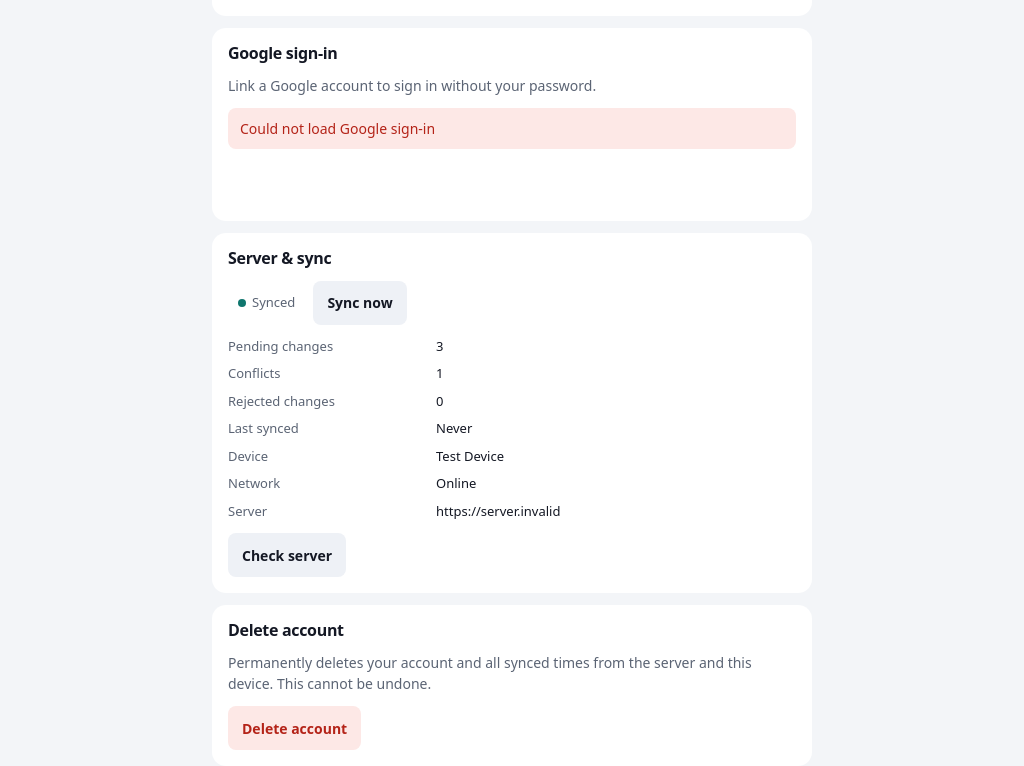
Test case: AccountPage › surfaces delete failures inside the dialog
(page scrolled)
Click the button "Delete account". click: x=295, y=728
box: [228,706,361,750]
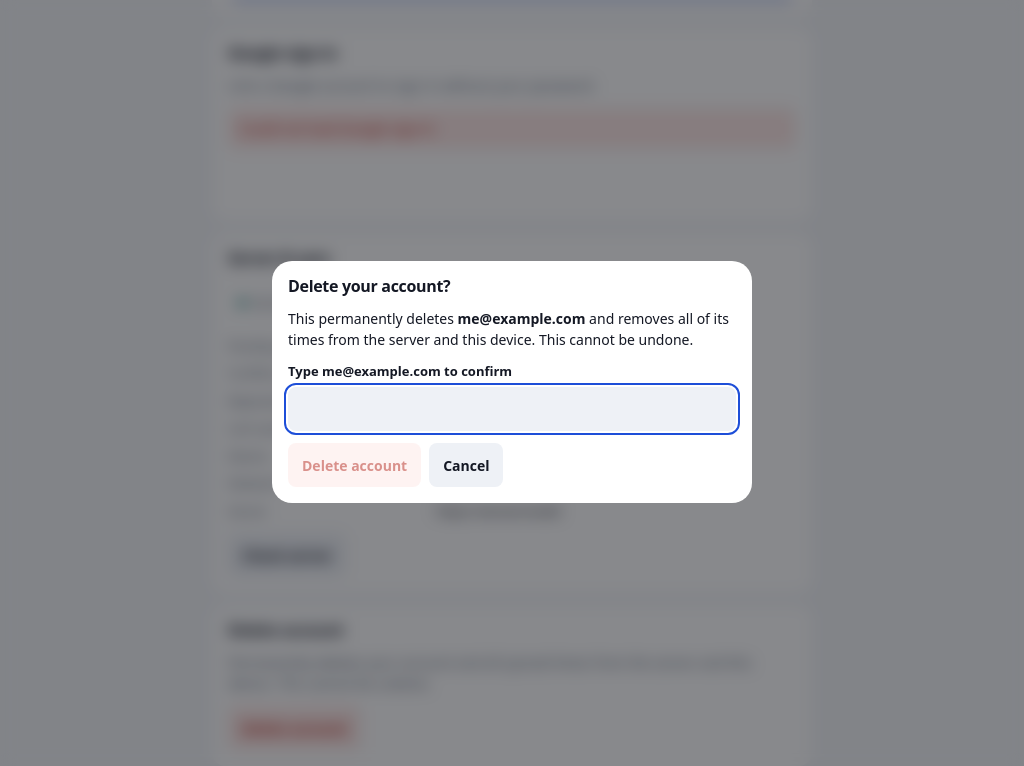
Type "me@example.com" into the field labelled "Type me@example.com to confirm". click: x=512, y=409
box: [288,387,736,431]
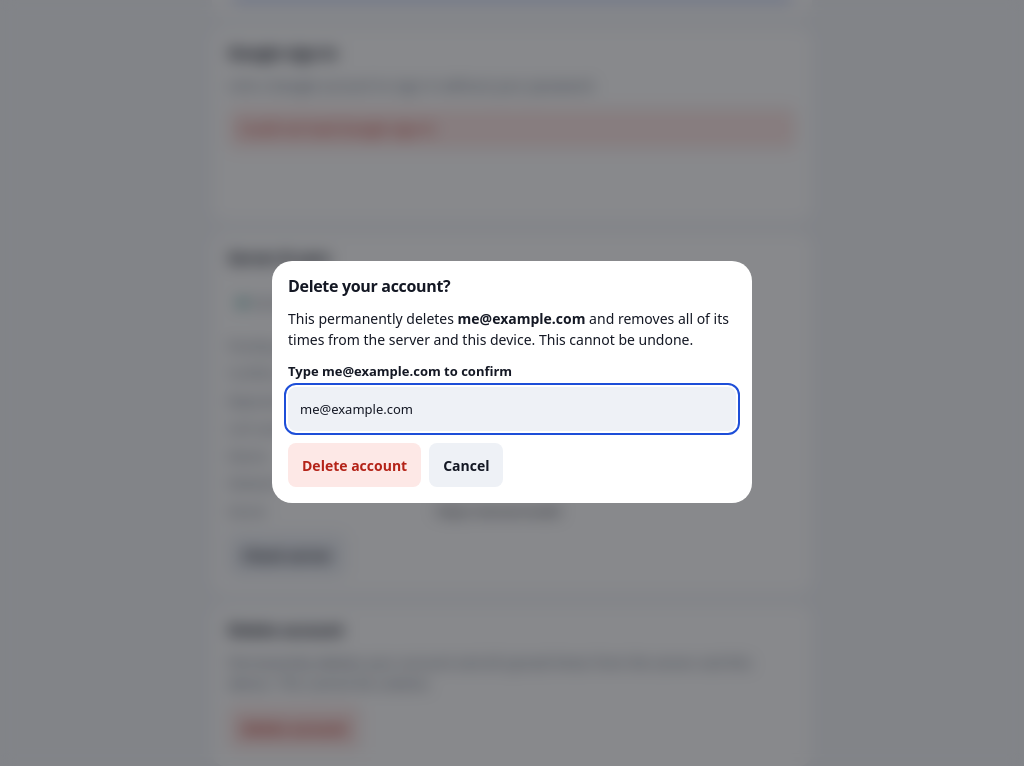
Click the button "Delete account". click: x=355, y=465
box: [288,443,421,487]
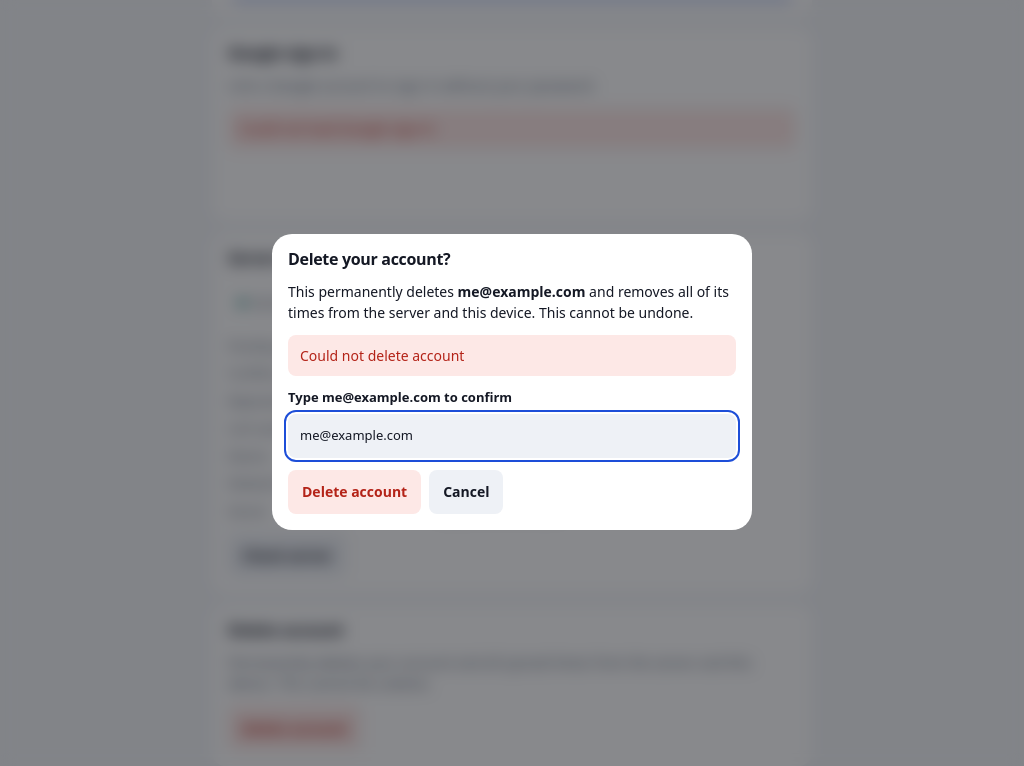
Expected: the text "Could not delete account" is shown, [288,335,736,376]
